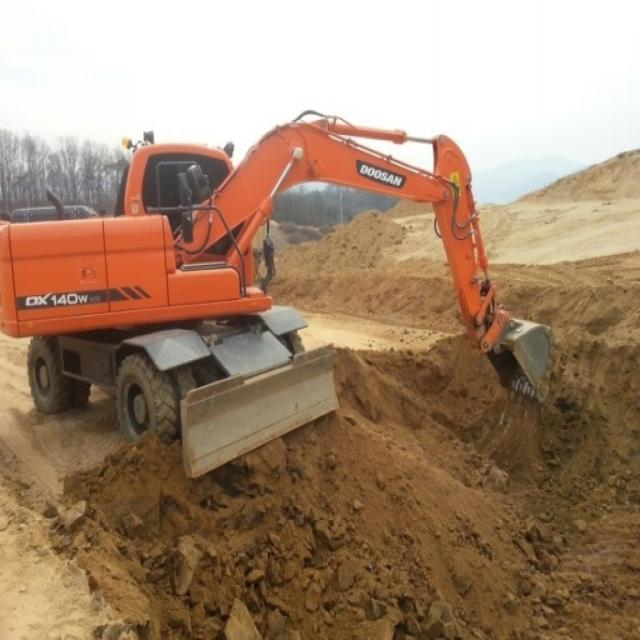excavator: (0, 110, 554, 478)
